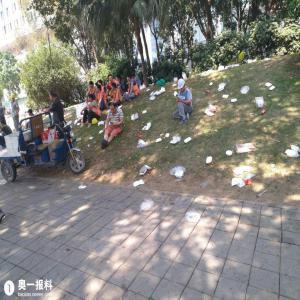none: (50, 90, 58, 102), (110, 103, 117, 114), (89, 95, 95, 104), (96, 86, 102, 93), (28, 110, 34, 117), (112, 83, 117, 91), (109, 75, 114, 83), (90, 81, 95, 89), (1, 120, 6, 128), (127, 75, 132, 82), (116, 76, 121, 83), (98, 81, 103, 88), (132, 75, 136, 81)
white: (179, 80, 187, 93)
yellow: (11, 94, 16, 103)
